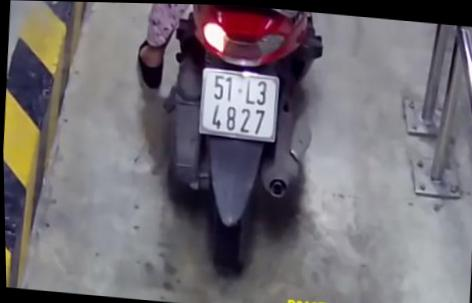LP: (196, 64, 281, 144)
